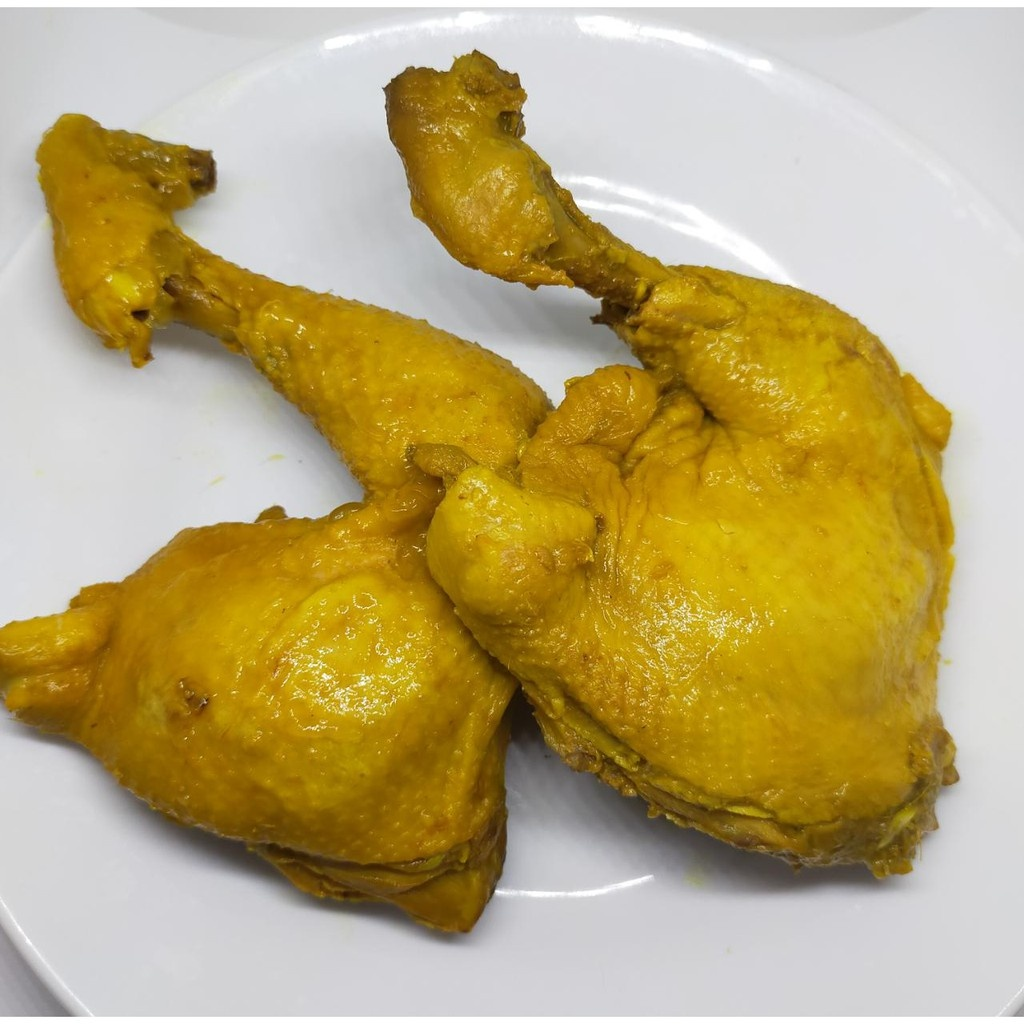ayam_goreng: (351, 50, 1019, 892), (15, 116, 592, 945)
